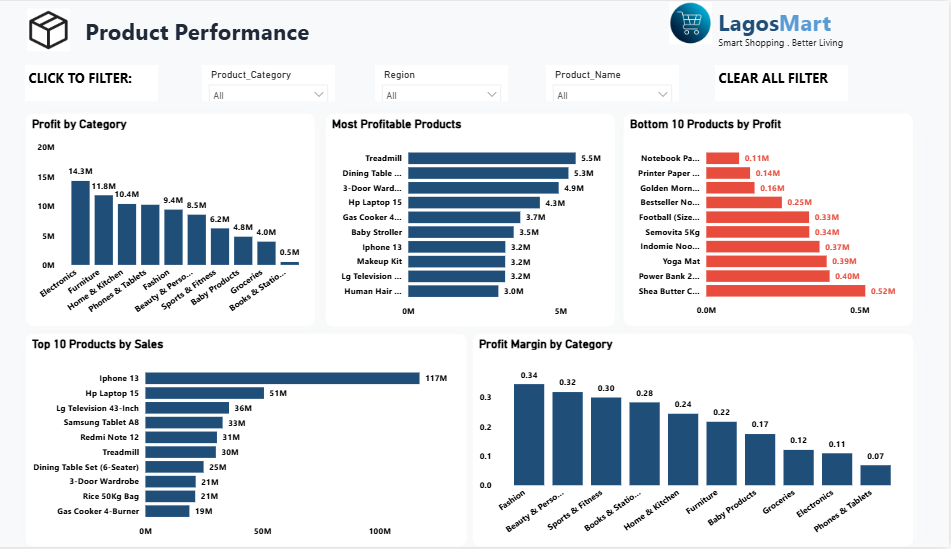

This screenshot's page, from the dashboard's own definition file:
{"tool":"powerbi","page":{"name":"Product Performance","canvas":[1366,780],"ordinal":2},"visuals":[{"type":"clusteredColumnChart","title":"Profit by Category","fields":{"Category":["Cleaned_LagosMart_Data.Product_Category"],"Y":["Sum(Cleaned_LagosMart_Data.Profit)"]},"box":[45.5,160.1,415,305],"z":0},{"type":"clusteredBarChart","title":"Top 10 Products by Sales ","fields":{"Category":["Cleaned_LagosMart_Data.Product_Name"],"Y":["Sum(Cleaned_LagosMart_Data.Sales_Amount)"]},"box":[45.5,474.4,631.6,305.5],"z":1000},{"type":"clusteredBarChart","title":"Bottom 10 Products by Profit","fields":{"Category":["Cleaned_LagosMart_Data.Product_Name"],"Y":["Sum(Cleaned_LagosMart_Data.Profit)"]},"box":[900.4,160.1,415,305],"z":2000},{"type":"image","box":[45.4,9.6,67,63],"z":3000},{"type":"textbox","box":[125.2,13.8,345.5,64.7],"z":4000},{"type":"image","box":[963,0,67,63],"z":5000},{"type":"textbox","box":[1030.4,1.7,212,80],"z":6000},{"type":"slicer","fields":{"Values":["Cleaned_LagosMart_Data.Product_Category"]},"box":[298.7,90.8,190,52],"z":7000},{"type":"slicer","fields":{"Values":["Cleaned_LagosMart_Data.Region"]},"box":[545,90.8,190,52],"z":8000},{"type":"slicer","fields":{"Values":["Cleaned_LagosMart_Data.Product_Name"]},"box":[790,90.8,190,52],"z":9000},{"type":"clusteredColumnChart","title":"Profit Margin by Category","fields":{"Category":["Cleaned_LagosMart_Data.Product_Category"],"Y":["Avg(Cleaned_LagosMart_Data.Profit_Margin)"]},"box":[684.5,474.4,631,305.5],"z":10000},{"type":"clusteredBarChart","title":"Most Profitable Products","fields":{"Y":["Sum(Cleaned_LagosMart_Data.Profit)"],"Category":["Cleaned_LagosMart_Data.Product_Name"]},"box":[474.4,160.1,415,305.5],"z":11000},{"type":"textbox","box":[1030.9,90.8,190,52.3],"z":12000},{"type":"textbox","box":[45.4,90.8,190,52],"z":13000}]}

Visuals, with their boxes in screenshot pixels (x1, y1, x2, y2), scaled from the page's 1366x780 canvas onto the 951x549 screenshot:
"Profit by Category" clusteredColumnChart: 32:113:321:327
"Top 10 Products by Sales " clusteredBarChart: 32:334:471:548
"Bottom 10 Products by Profit" clusteredBarChart: 627:113:916:327
image: 32:7:78:51
textbox: 87:10:328:55
image: 670:0:717:44
textbox: 717:1:865:58
slicer - Cleaned_LagosMart_Data.Product_Category: 208:64:340:101
slicer - Cleaned_LagosMart_Data.Region: 379:64:512:101
slicer - Cleaned_LagosMart_Data.Product_Name: 550:64:682:101
"Profit Margin by Category" clusteredColumnChart: 477:334:916:548
"Most Profitable Products" clusteredBarChart: 330:113:619:328
textbox: 718:64:850:101
textbox: 32:64:164:101
